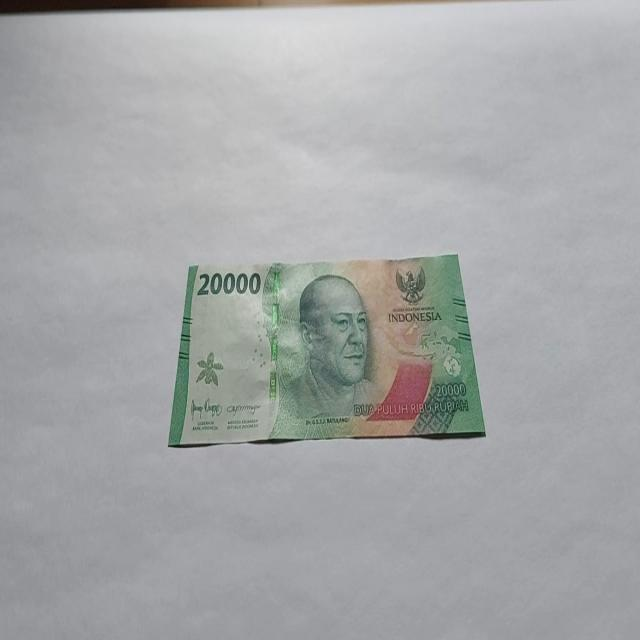dua puluh ribu rupiah: (168, 252, 487, 448)
